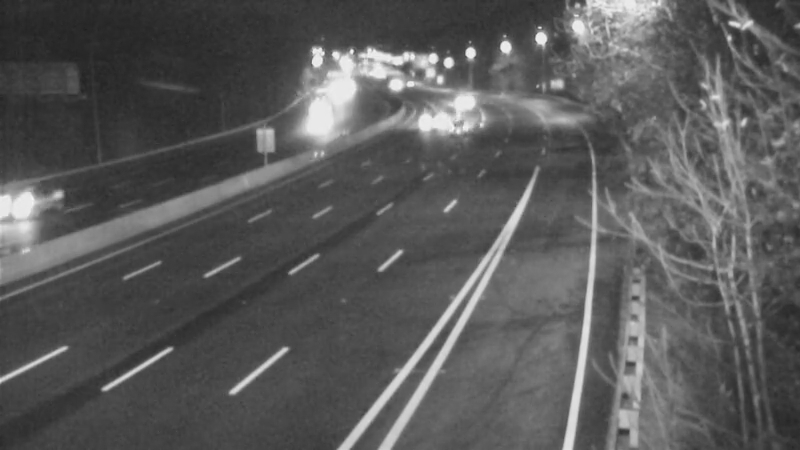vehicle: (1, 164, 71, 244), (432, 79, 482, 129), (401, 94, 451, 144), (437, 98, 487, 148), (291, 93, 341, 143)
